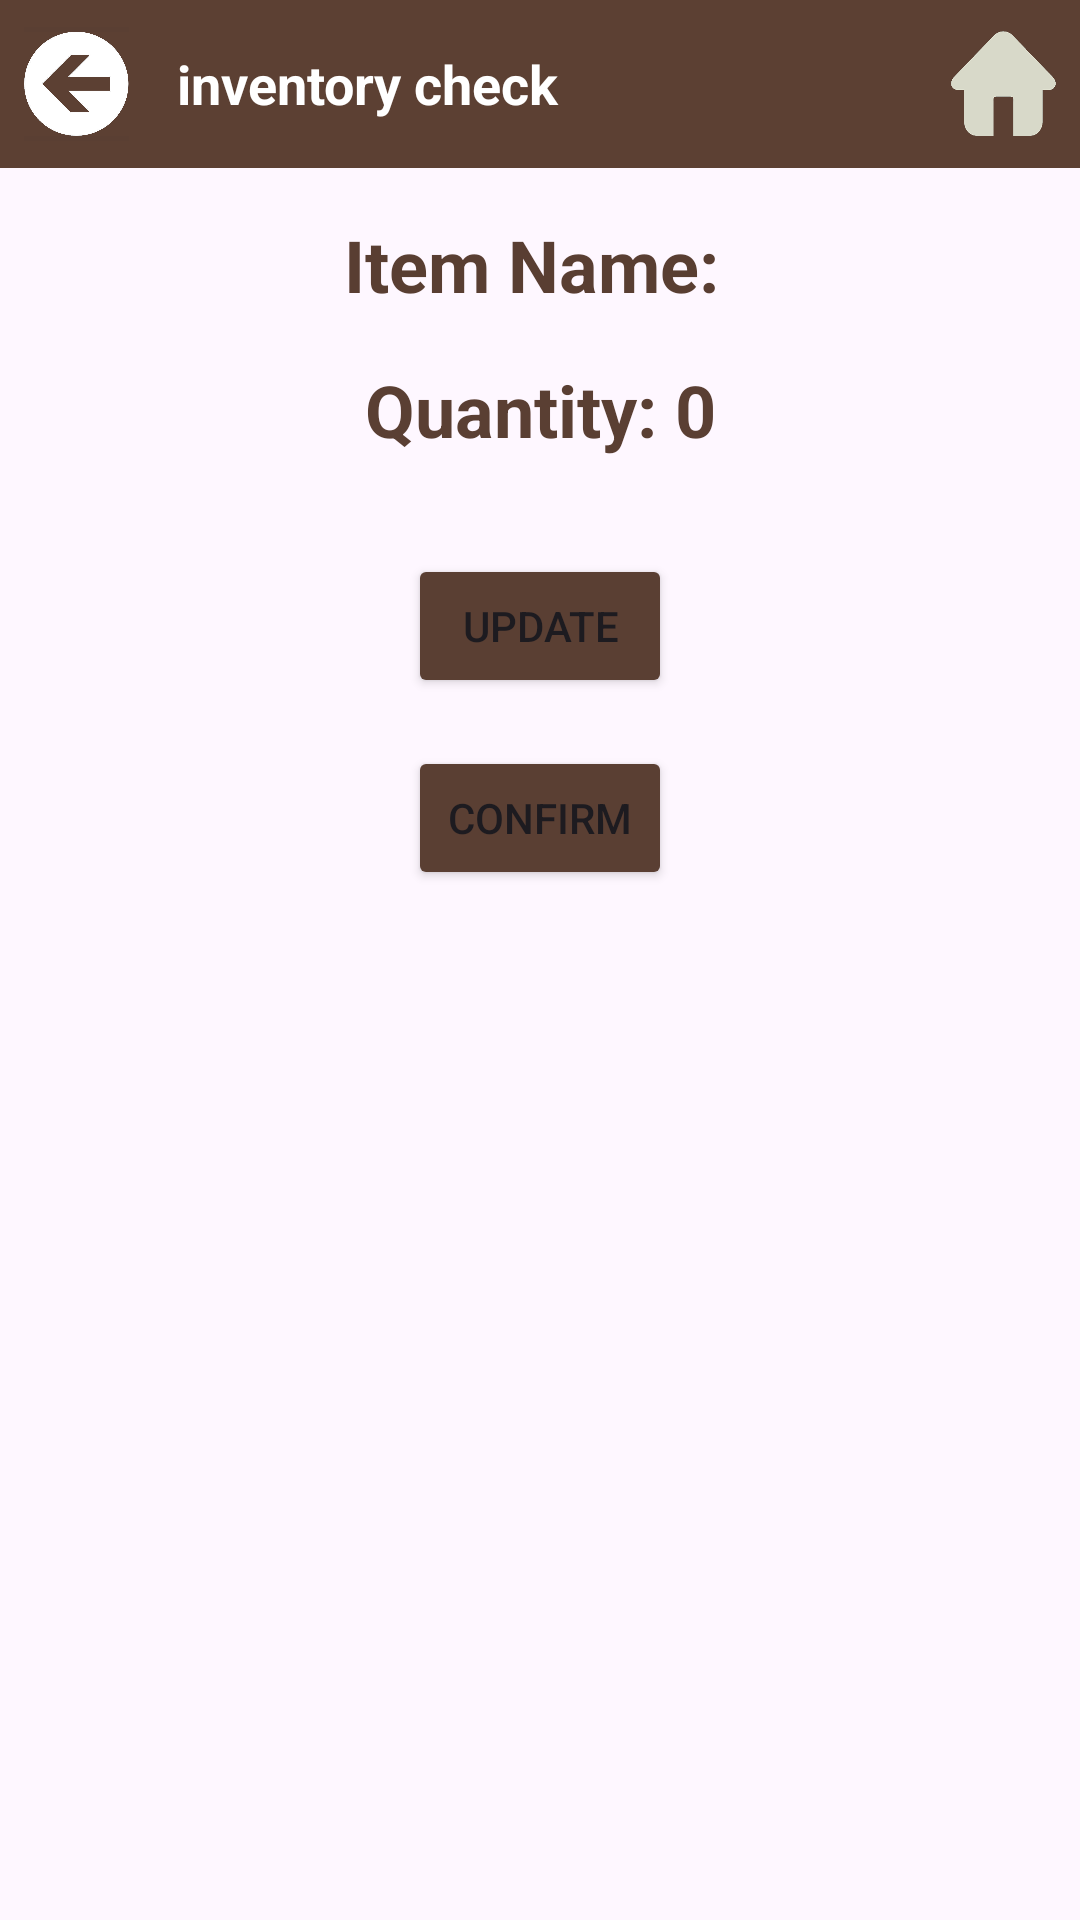

Screen size 1080×1920. Icon name, then its box in pixels as (x1, y1, x2, y2):
Back: (24, 32, 129, 136)
